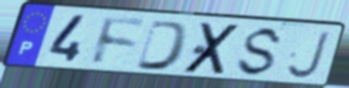4: (46, 12, 86, 68)
D: (133, 18, 192, 72)
F: (90, 15, 149, 68)
J: (285, 30, 332, 81)
S: (233, 25, 286, 79)
X: (180, 21, 244, 76)
